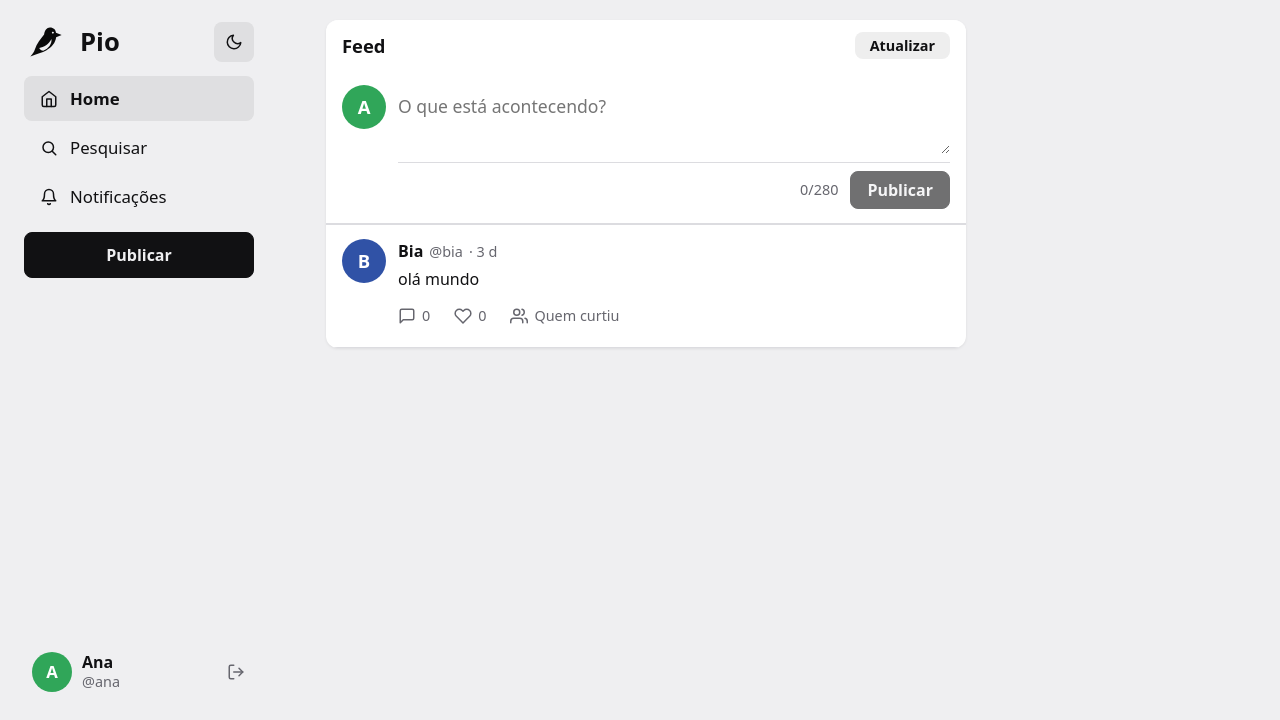
Test: feed › clicar num botão do pio não abre o detalhe
Click the button "Quem curtiu": [565, 316] box x1=500 y1=299 x2=630 y2=333
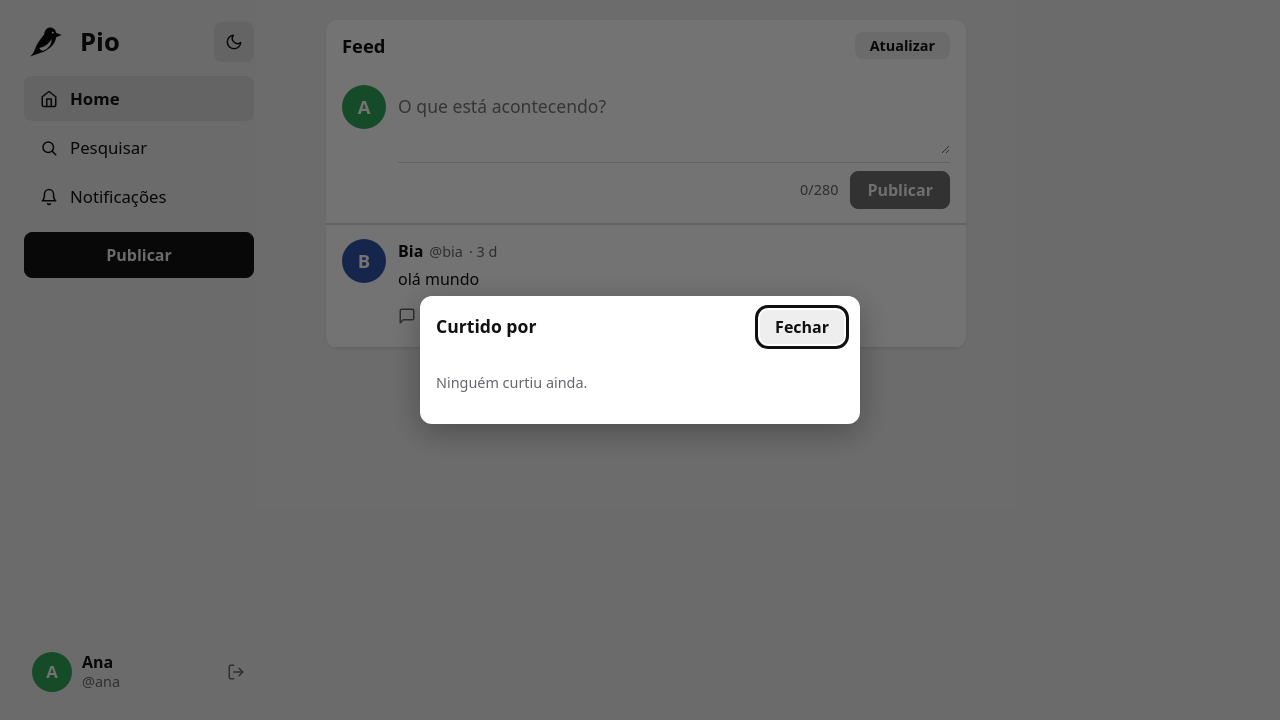
Expected: the dialog is shown, x1=420 y1=296 x2=860 y2=424
